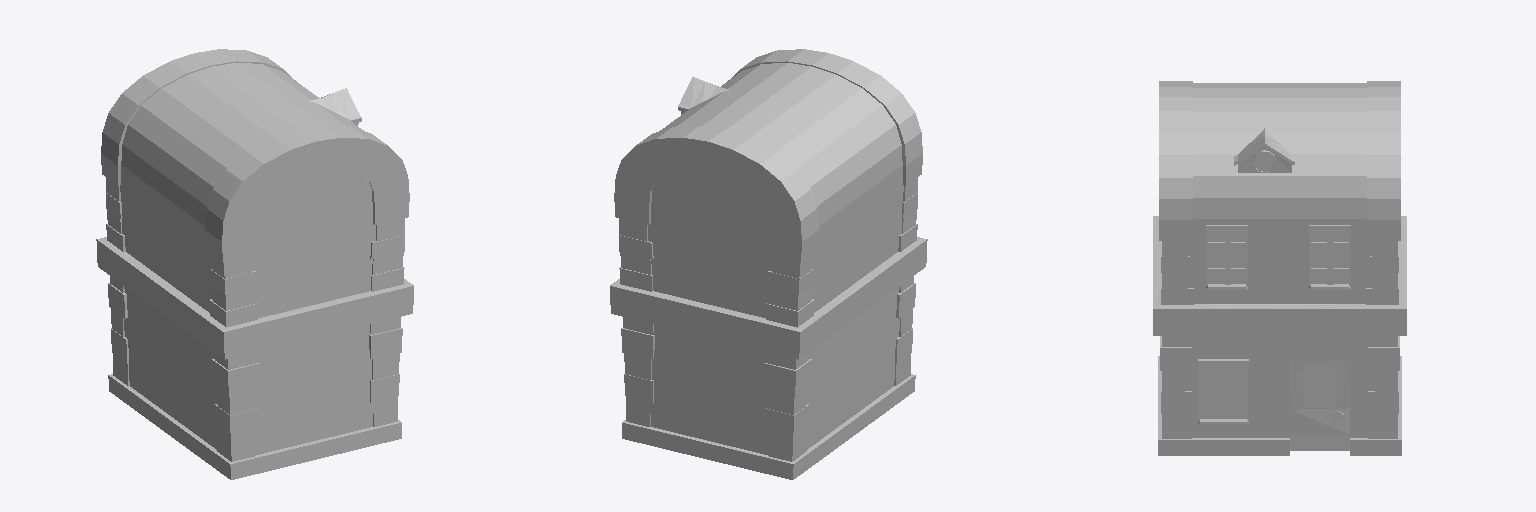
The model's file is City_house_1_1.obj.
3 renders of one model, left to right at view 1: azimuth 30°, elevation 25°; view 2: azimuth 150°, elevation 25°; view 3: azimuth 270°, elevation 25°, orthographic.
Visible parts, largest first — view 1: City_house_6_polySurface49; view 2: City_house_6_polySurface49; view 3: City_house_6_polySurface49.
Boxes of the visible parts, <box> form: City_house_6_polySurface49: <box>96,49,413,479</box>; City_house_6_polySurface49: <box>610,49,927,479</box>; City_house_6_polySurface49: <box>1153,81,1406,455</box>.
Size of the model in its own units: 4.32 by 6.83 by 4.96.